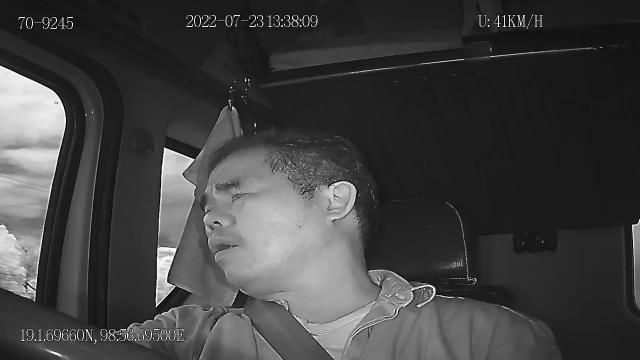Seatbelt: (242, 294, 336, 360)
